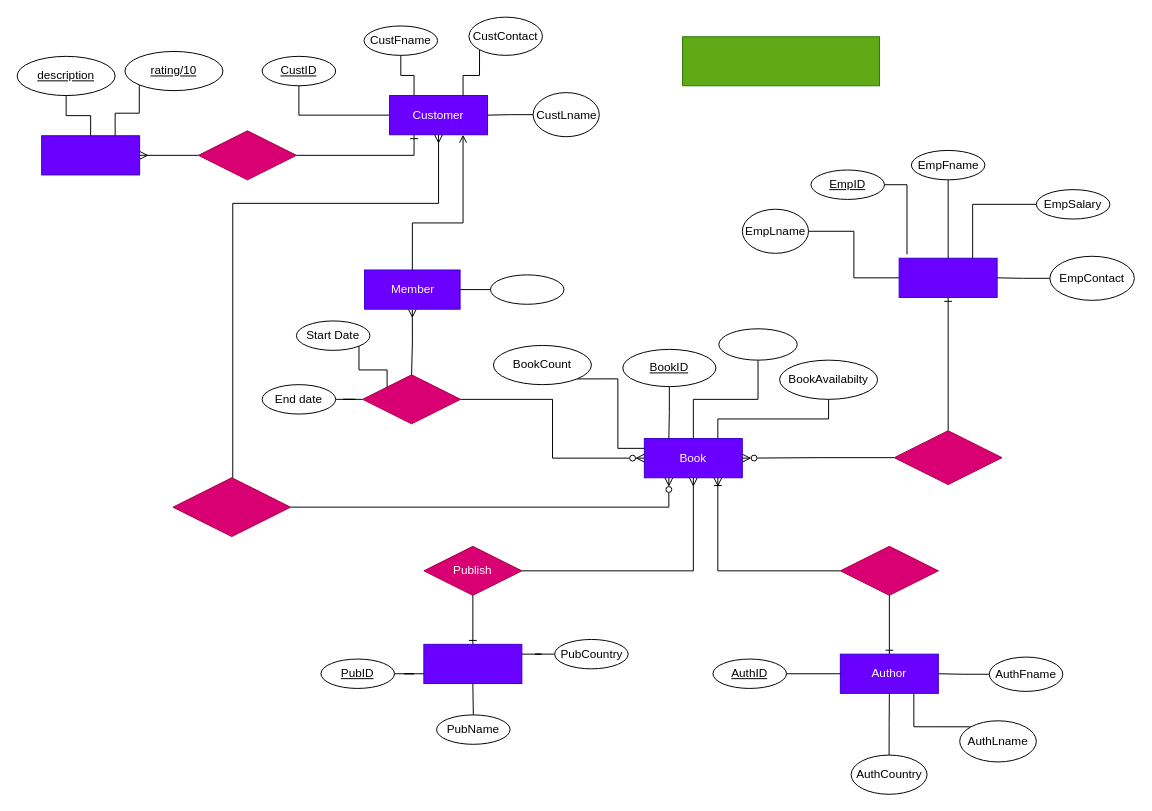
Some shapes in this 1152 by 811 pixel diagram are drawn without their labels. Each missing label, with the centre of its shape:
"Adds" goes at point (947, 457).
"BookName" goes at point (757, 344).
"Borrows" goes at point (411, 399).
"Employee" goes at point (947, 277).
"ER Diagram" goes at point (781, 61).
"Feedback" goes at point (90, 155).
"LibraryCard" goes at point (527, 289).
"Provide" goes at point (246, 155).
"Publisher" goes at point (472, 663).
"Purchase" goes at point (231, 507).
"Writen By" goes at point (888, 570).
